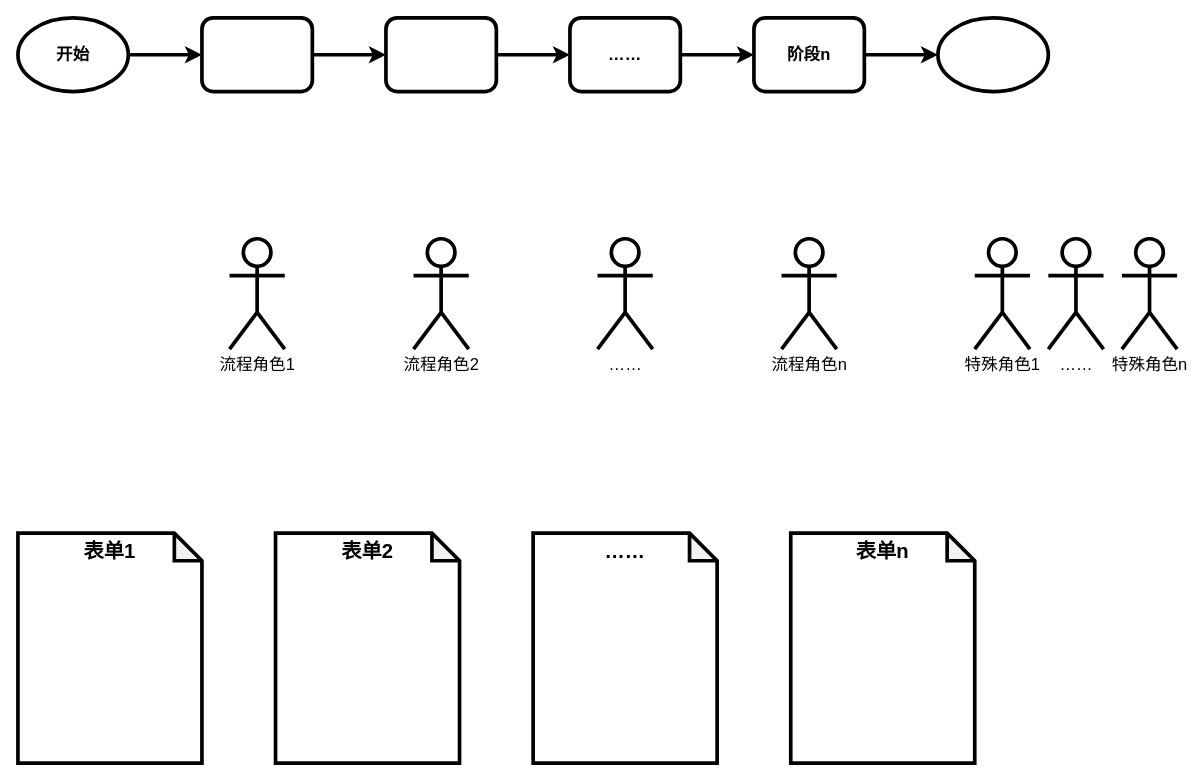
This 1202x780 diagram has some shape labels left out. The centre of each missing label's shape, as x and y in pixels:
结束: (993,54)
阶段1: (257,54)
阶段2: (441,54)
